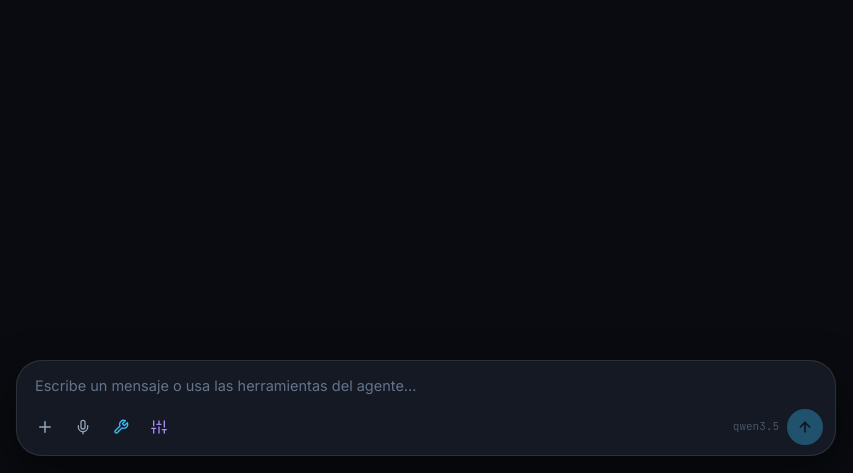
Composer › toggles tool selector on wrench button click
Click the button titled "Configuración de herramientas" at point(121, 427), box [105,411,137,443]
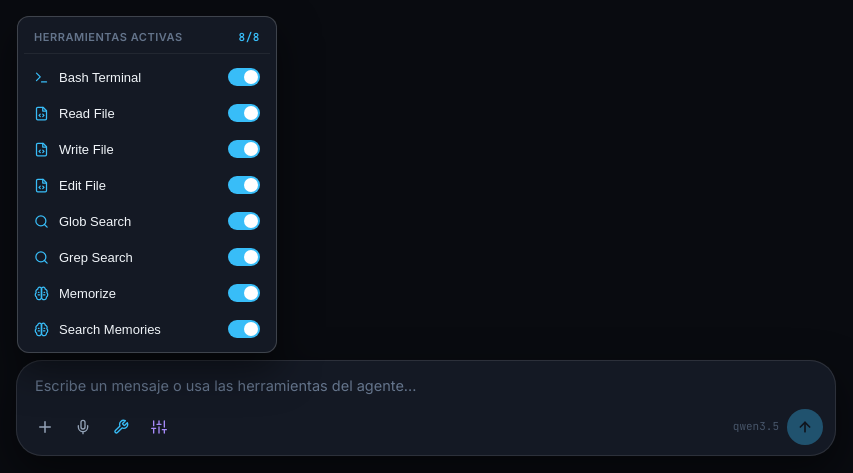
Result: the text "Bash Terminal" is shown at [59,70,141,84]
